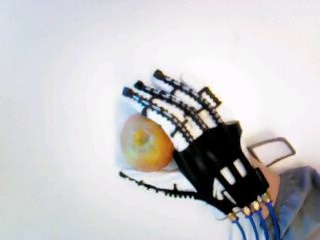apple: (120, 113, 171, 171)
hand: (119, 68, 268, 222), (120, 113, 171, 171)
